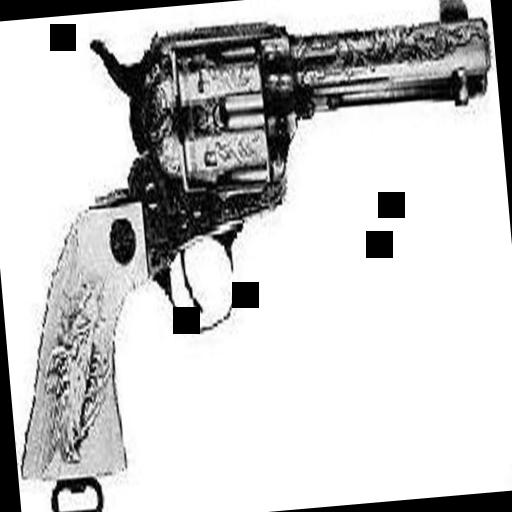Handgun: (0, 0, 512, 487)
